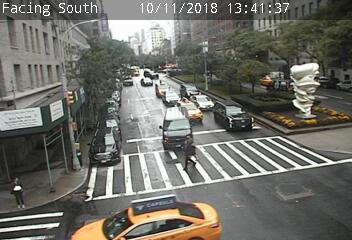car: (163, 107, 193, 149), (214, 100, 253, 131), (89, 128, 120, 164), (174, 100, 203, 123), (189, 95, 214, 111), (180, 83, 200, 99), (162, 91, 181, 105), (155, 82, 171, 98), (140, 77, 152, 86)
